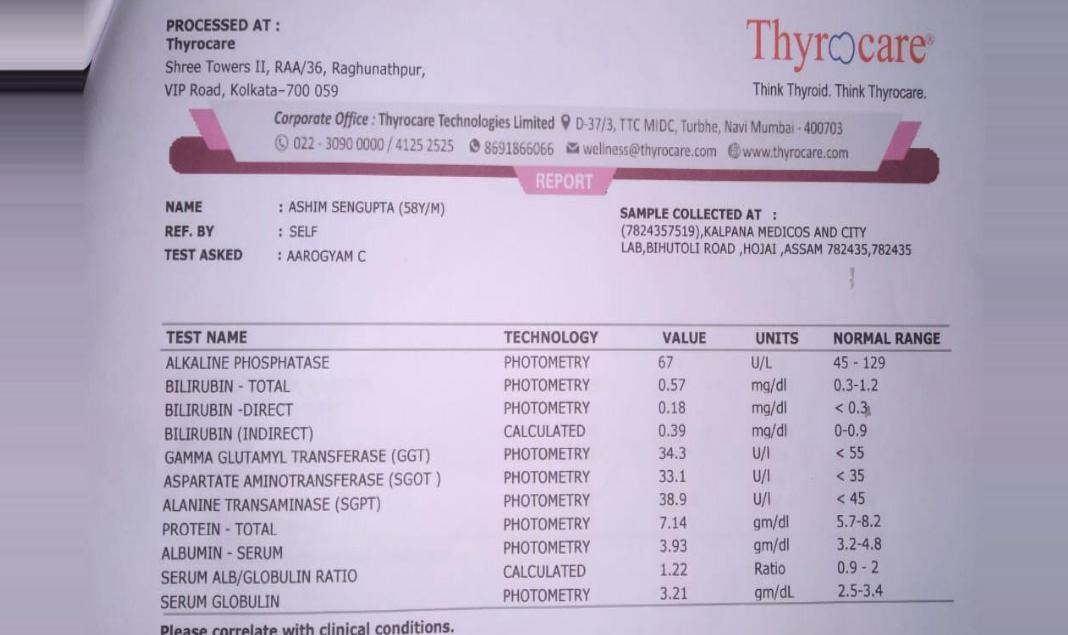Reference Range: (823, 349, 897, 605)
Test Name: (151, 347, 449, 614)
Units: (742, 348, 809, 607)
Value: (650, 348, 702, 608)
